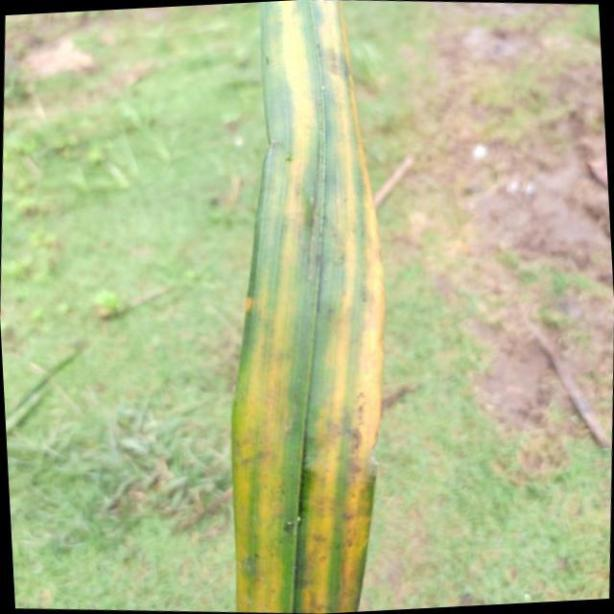Megnesium: (232, 0, 382, 614)
